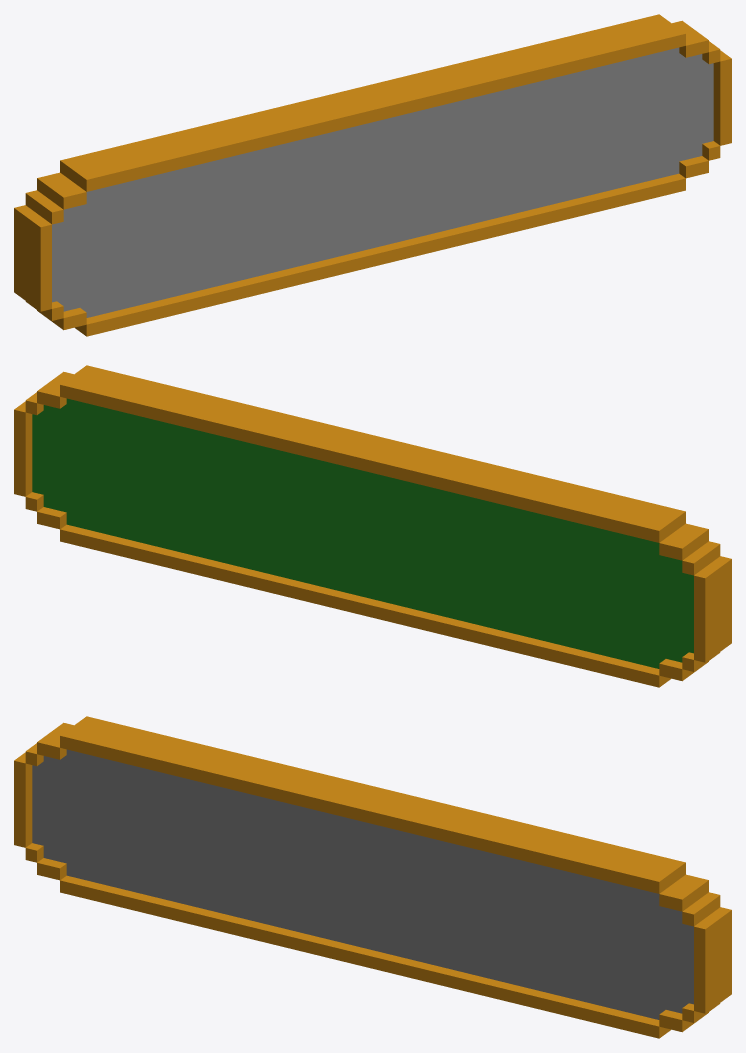
Rendered from menu_button.obj.
3 views of the same model, one above another, from view 1: azimuth 30°, elevation 25°; view 2: azimuth 150°, elevation 25°; view 3: azimuth 330°, elevation 25° (orthographic).
Size of the model in its own units: 6 by 1.3 by 0.4.
1 material, 1 textured.
